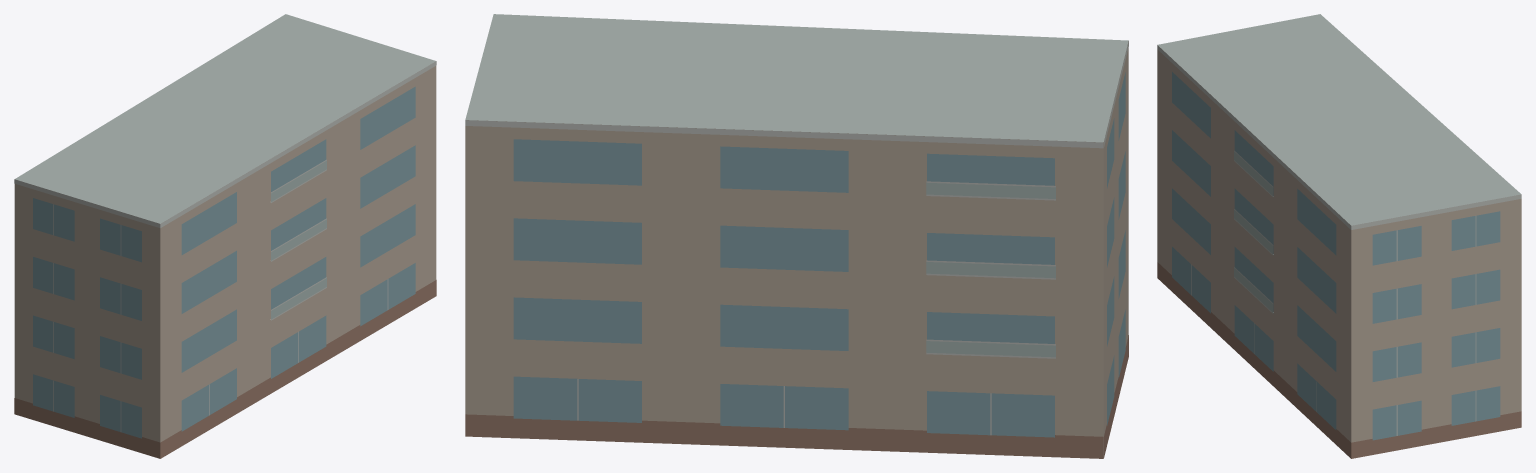
Rendered from survey-upis-32629328.glb.
3 views of the same model, side by side, from view 1: azimuth 30°, elevation 25°; view 2: azimuth 150°, elevation 25°; view 3: azimuth 270°, elevation 25° (orthographic). The views are drawn at different scales.
Parts seen in each view (by area): view 1: survey-upis-32629328.tmp; view 2: survey-upis-32629328.tmp; view 3: survey-upis-32629328.tmp.
Boxes of the visible parts, x1=… form: survey-upis-32629328.tmp: x1=14, y1=14, x2=436, y2=458; survey-upis-32629328.tmp: x1=465, y1=14, x2=1128, y2=458; survey-upis-32629328.tmp: x1=1157, y1=14, x2=1521, y2=458.
Bounding box in the file's own units: 25.53 × 13.1 × 18.57.
